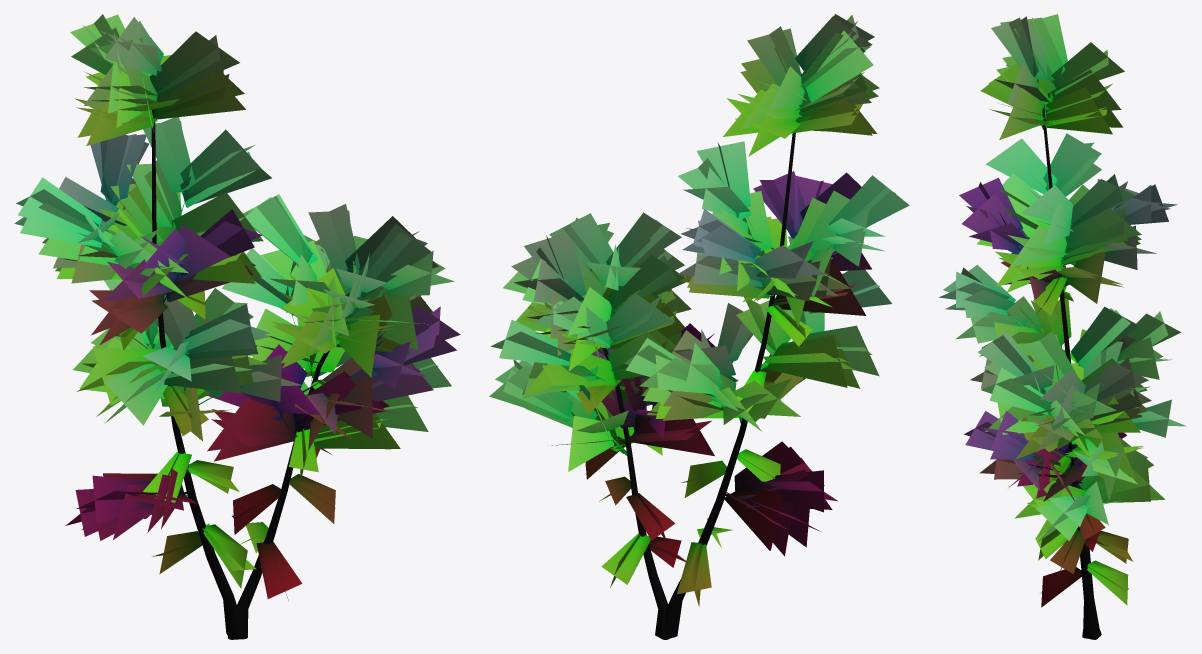
File: M_Realistic21_16.fbx
3 views of the same model, side by side, from view 1: azimuth 30°, elevation 25°; view 2: azimuth 150°, elevation 25°; view 3: azimuth 270°, elevation 25° (orthographic). The views are drawn at different scales.
Parts seen in each view (by area): view 1: Tree_16; view 2: Tree_16; view 3: Tree_16.
Boxes of the visible parts, bbox=[...] form: Tree_16: bbox=[14, 14, 460, 639]; Tree_16: bbox=[489, 14, 909, 639]; Tree_16: bbox=[938, 14, 1186, 639].
Bounding box in the file's own units: 1763 × 2707 × 1088.
